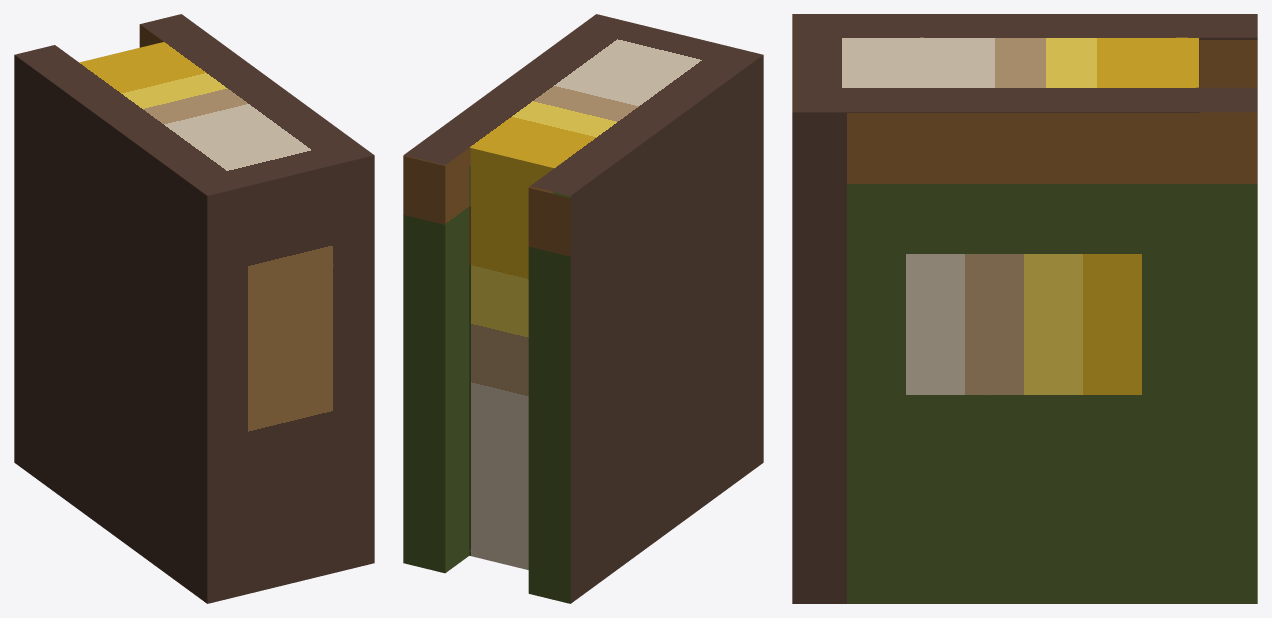
Rendered from book_642x08.obj.
3 views of the same model, side by side, from view 1: azimuth 30°, elevation 25°; view 2: azimuth 150°, elevation 25°; view 3: azimuth 270°, elevation 25° (orthographic). The views are drawn at different scales.
Parts seen in each view (by area): view 1: Cube; view 2: Cube; view 3: Cube.
Part boxes in pixels (x1,y1,x2,y2): Cube: (14,14,374,603); Cube: (403,14,763,603); Cube: (792,14,1257,603).
Bounding box in the file's own units: 0.5 × 1.17 × 1.
